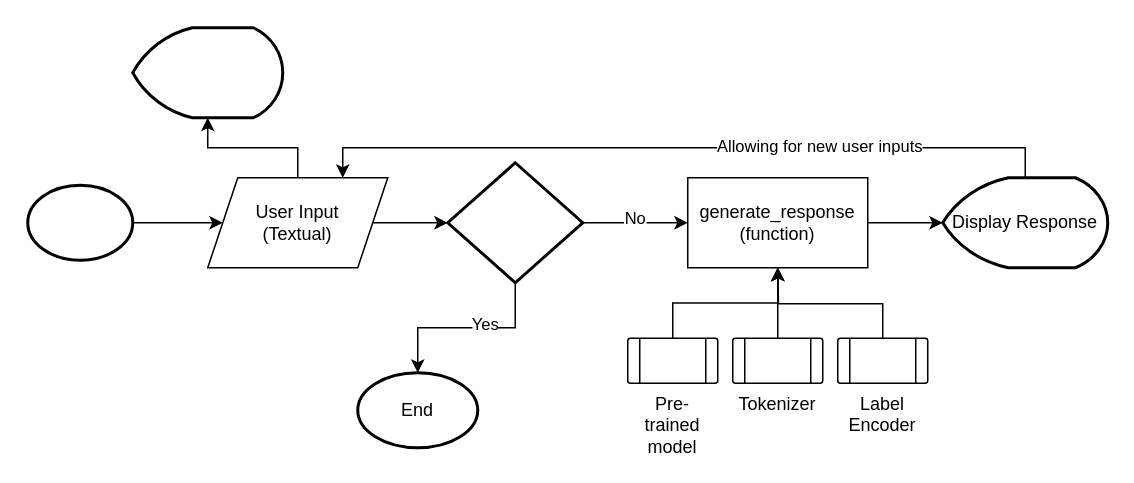
Image size: 1134x483. Some labels were removed from this diagram. Each missing label, with the centre of its shape:
Display User message: point (207, 72)
Start: point (80, 222)
user = 'quit': point (515, 222)
